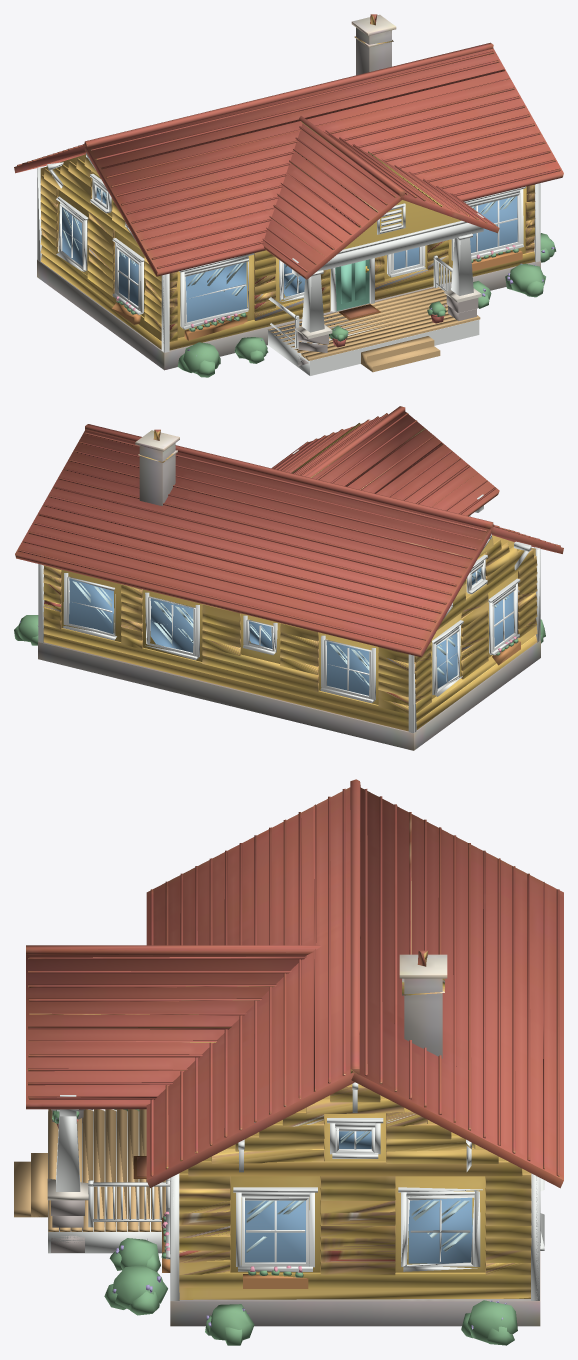
The model's file is bungalow.glb.
The picture shows the model from 3 angles, top to bottom: view 1: azimuth 30°, elevation 25°; view 2: azimuth 150°, elevation 25°; view 3: azimuth 270°, elevation 25°; orthographic projection. The views are drawn at different scales.
Parts seen in each view (by area): view 1: bungalow_body, bungalow_details; view 2: bungalow_body, bungalow_details; view 3: bungalow_body, bungalow_details.
Part boxes in pixels (<box>): bungalow_body: <box>14,14,563,370</box>; bungalow_details: <box>37,153,556,377</box>; bungalow_body: <box>15,406,563,750</box>; bungalow_details: <box>14,449,545,733</box>; bungalow_body: <box>26,779,563,1326</box>; bungalow_details: <box>14,1082,544,1345</box>.
Size of the model in its own units: 12.6 by 6.19 by 9.67.
Materials: 2 (2 with a texture image).
